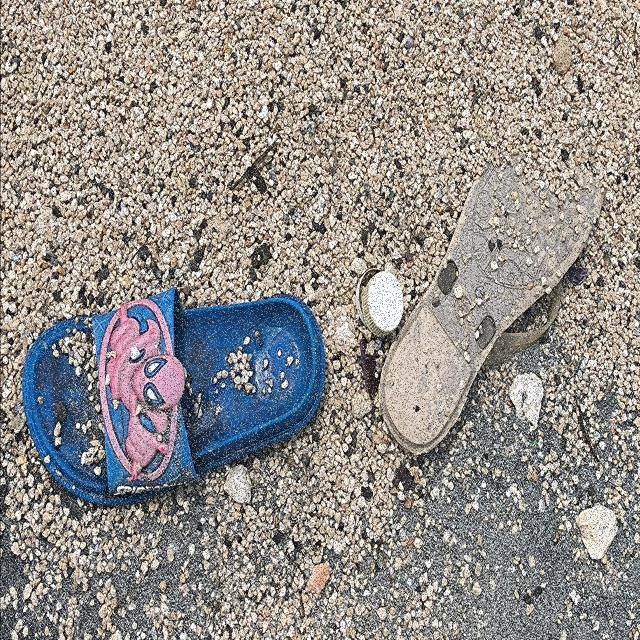plastic_waste: (363, 271, 403, 340)
rubber_waste: (379, 147, 602, 459), (22, 290, 327, 507)
